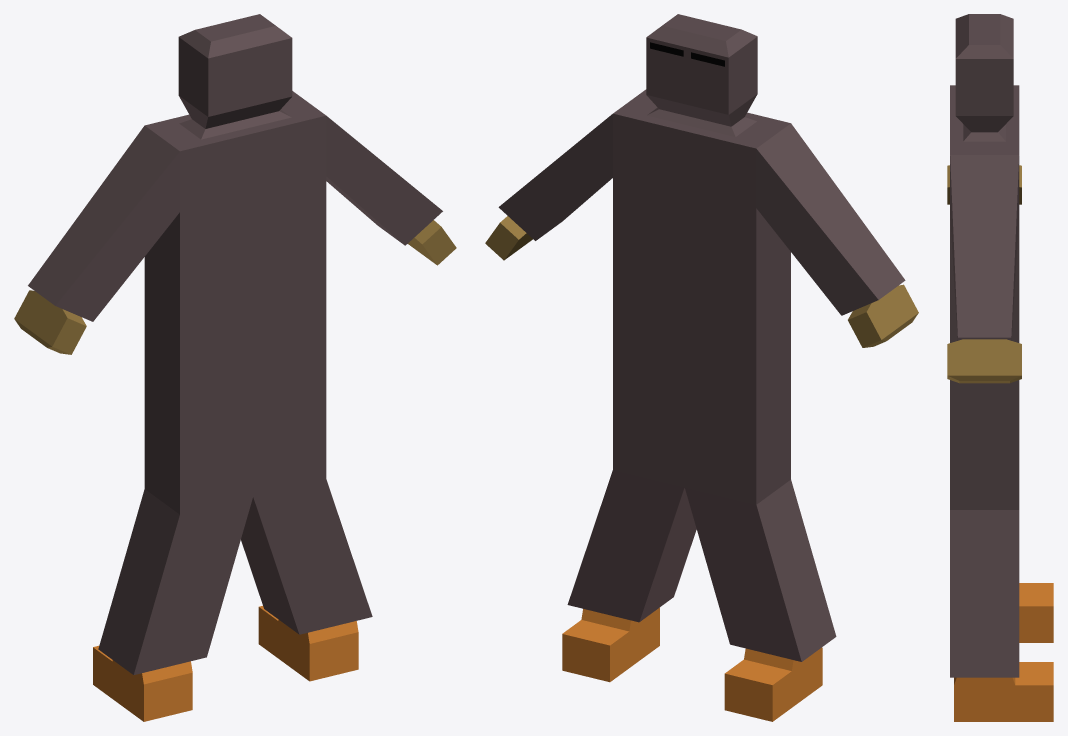
The model's file is Gegner.glb.
3 views of the same model, side by side, from view 1: azimuth 30°, elevation 25°; view 2: azimuth 150°, elevation 25°; view 3: azimuth 270°, elevation 25° (orthographic). The views are drawn at different scales.
Parts seen in each view (by area): view 1: Cube; view 2: Cube; view 3: Cube.
Part boxes in pixels (box(x1,y1,x2,y2)): Cube: box(14, 14, 456, 721); Cube: box(485, 14, 918, 721); Cube: box(947, 14, 1053, 721).
Size of the model in its own units: 5.53 by 8.57 by 1.29.
Materials: 1 (1 with a texture image).
